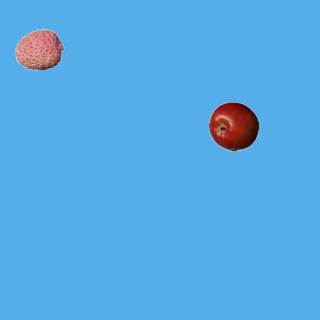Apple Braeburn: (208, 101, 258, 151)
Lychee: (14, 24, 64, 74)
